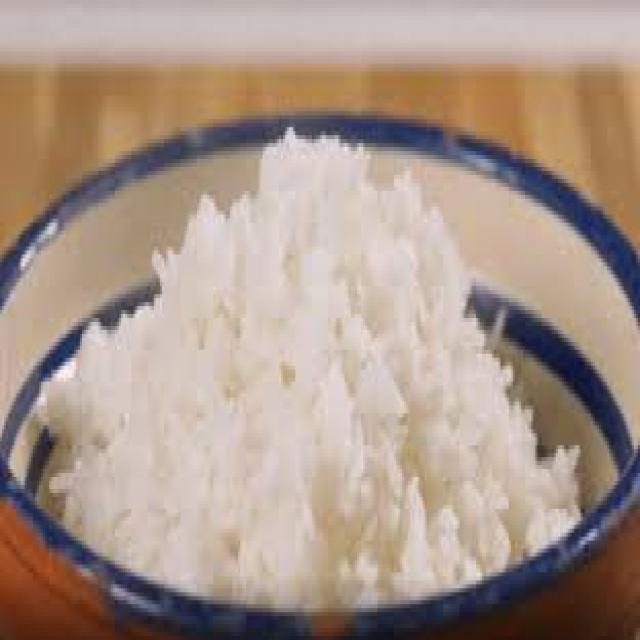White Rice: (0, 147, 635, 639)
